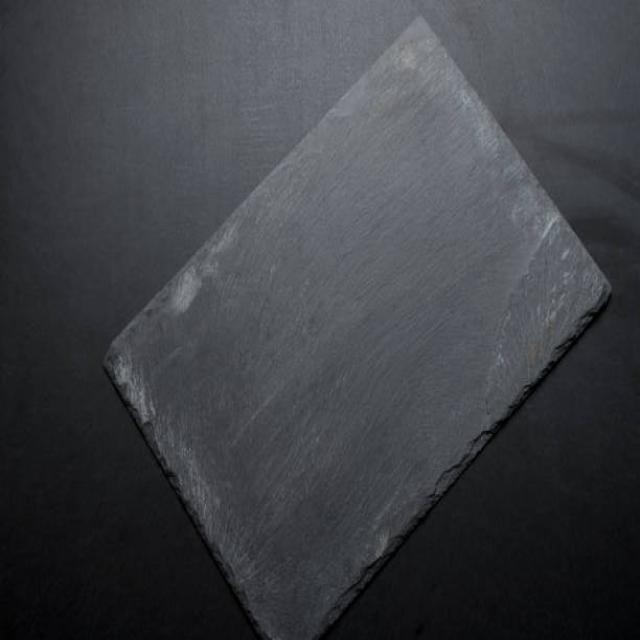Metamorphic: (101, 28, 616, 606)
